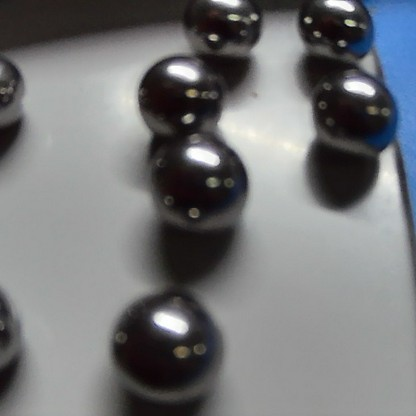ironball: (98, 284, 208, 404), (287, 61, 390, 158), (157, 131, 237, 230), (176, 0, 275, 72), (276, 0, 394, 60), (137, 46, 221, 125)
